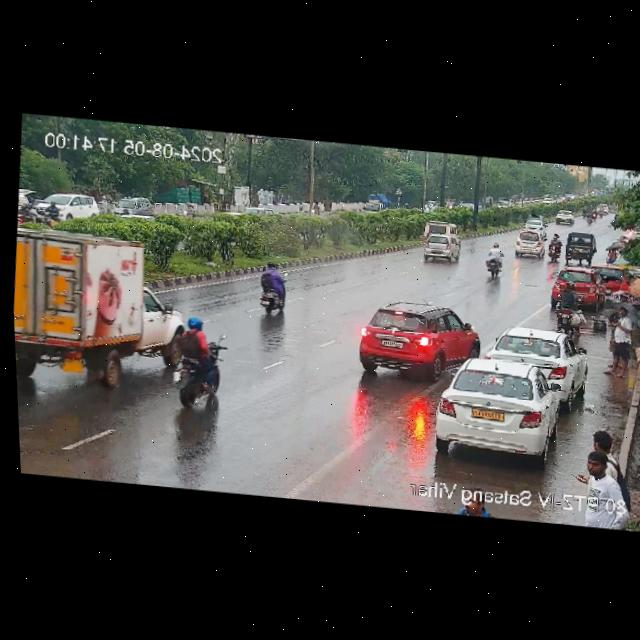car: (10, 222, 187, 372), (428, 353, 567, 458), (350, 294, 482, 382), (486, 323, 586, 392), (546, 264, 607, 312), (36, 185, 103, 220), (589, 261, 629, 292), (422, 231, 462, 260), (562, 231, 598, 260), (513, 229, 547, 258), (423, 218, 460, 239), (113, 194, 150, 215), (520, 216, 548, 231), (550, 208, 574, 224)
motorcycle: (166, 306, 232, 415), (252, 262, 295, 319), (15, 187, 40, 229), (482, 240, 505, 279), (546, 232, 565, 261), (42, 200, 61, 216)
person: (568, 453, 623, 499), (582, 423, 629, 469), (609, 305, 638, 376), (552, 279, 586, 334), (617, 294, 632, 306), (622, 275, 633, 290)
